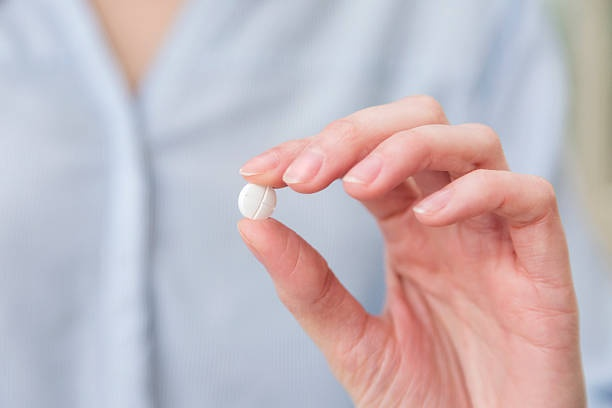pills: (235, 173, 290, 223)
